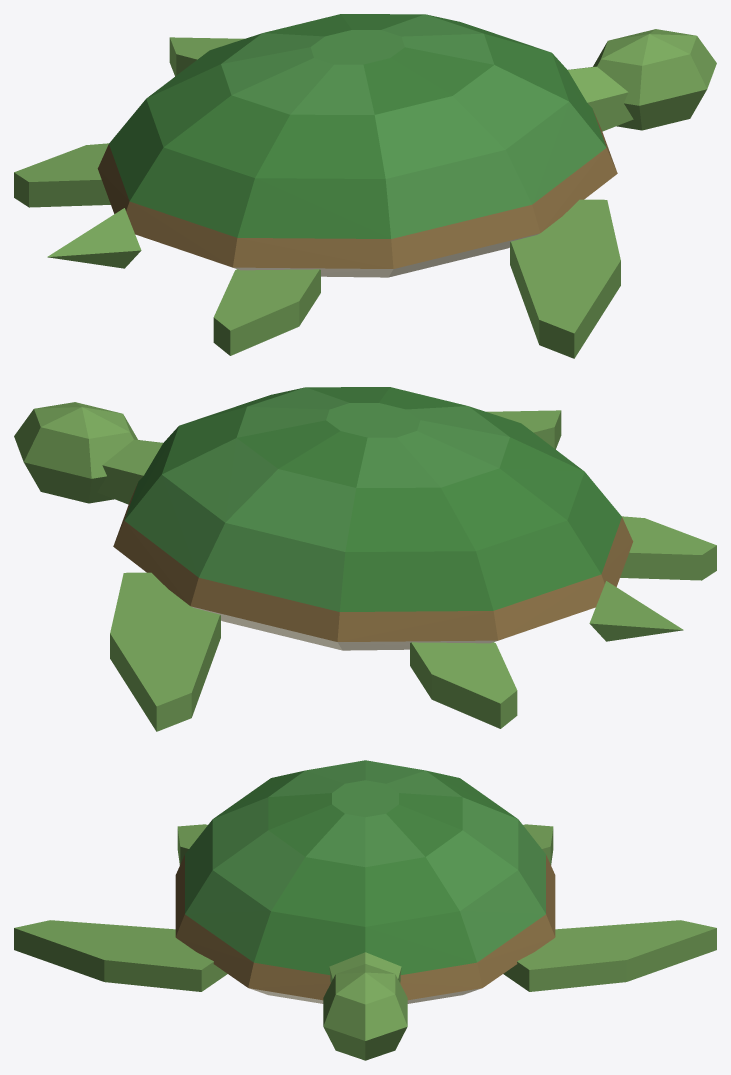
The model's file is turtle.glb.
3 views of the same model, one above another, from view 1: azimuth 30°, elevation 25°; view 2: azimuth 150°, elevation 25°; view 3: azimuth 270°, elevation 25° (orthographic). The views are drawn at different scales.
Parts seen in each view (by area): view 1: shell, head, flipper_fr, flipper_br, flipper_bl, flipper_fl; view 2: shell, head, flipper_fl, flipper_bl, flipper_br, flipper_fr; view 3: shell, flipper_fl, flipper_fr, head, flipper_bl, flipper_br.
Part boxes in pixels (x1=…): shell: x1=97, y1=14, x2=617, y2=277; head: x1=47, y1=29, x2=716, y2=268; flipper_fr: x1=510, y1=199, x2=620, y2=358; flipper_br: x1=213, y1=269, x2=320, y2=355; flipper_bl: x1=14, y1=143, x2=110, y2=207; flipper_fl: x1=169, y1=37, x2=244, y2=76; shell: x1=113, y1=387, x2=633, y2=650; head: x1=14, y1=402, x2=683, y2=641; flipper_fl: x1=110, y1=572, x2=220, y2=731; flipper_bl: x1=410, y1=642, x2=517, y2=728; flipper_br: x1=620, y1=516, x2=716, y2=580; flipper_fr: x1=486, y1=410, x2=561, y2=449; shell: x1=175, y1=760, x2=555, y2=1003; flipper_fl: x1=503, y1=920, x2=716, y2=991; flipper_fr: x1=14, y1=920, x2=227, y2=991; head: x1=323, y1=952, x2=407, y2=1060; flipper_bl: x1=523, y1=824, x2=553, y2=864; flipper_br: x1=177, y1=824, x2=207, y2=864.
Size of the model in its own units: 0.69 by 0.1695 by 0.7218.
